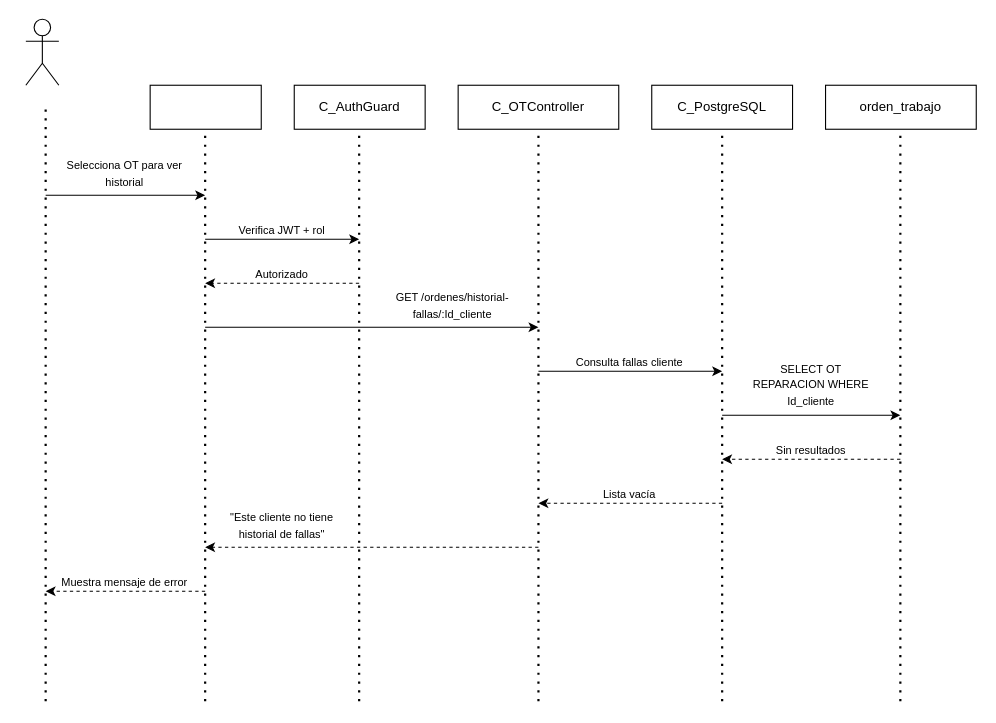
Image size: 996x723. Some labels were removed from this diagram. Each missing label, with the centre of its shape:
"Técnico" belongs at (x=42, y=51).
"V_Terreno" belongs at (x=205, y=106).
